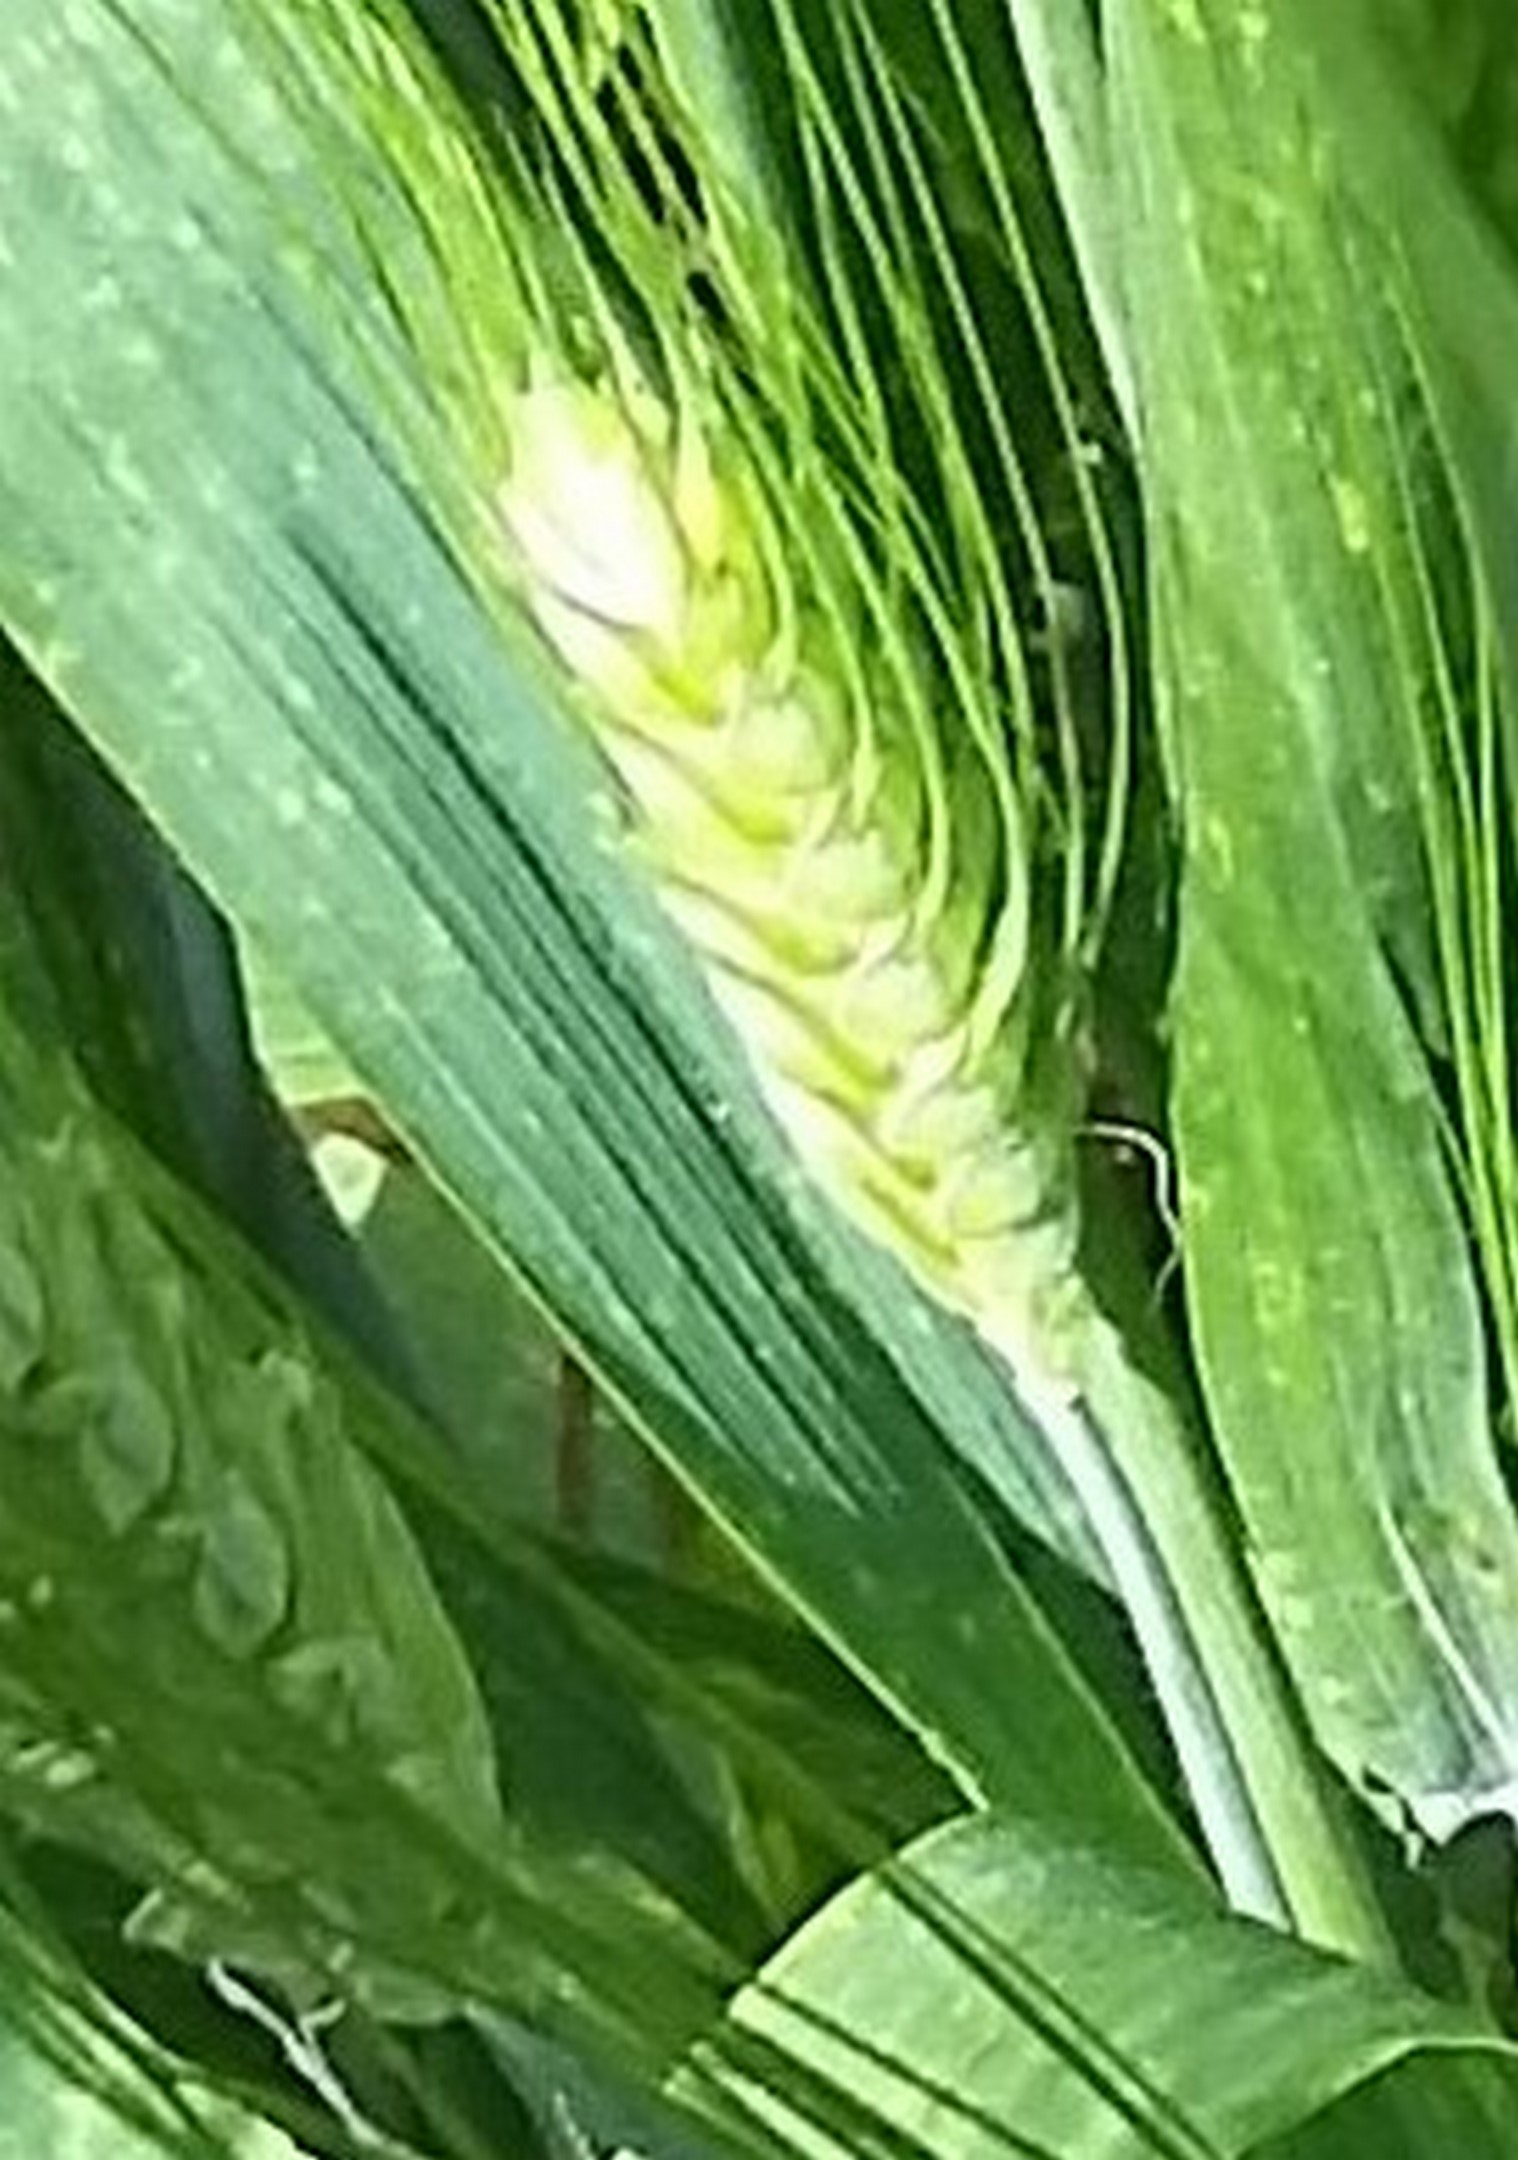Healthy Wheat: (455, 338, 1160, 1431)
